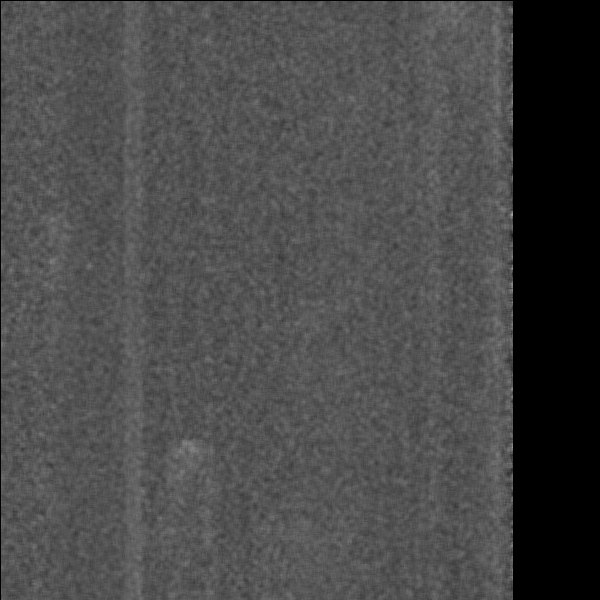spark: (174, 436, 203, 480)
